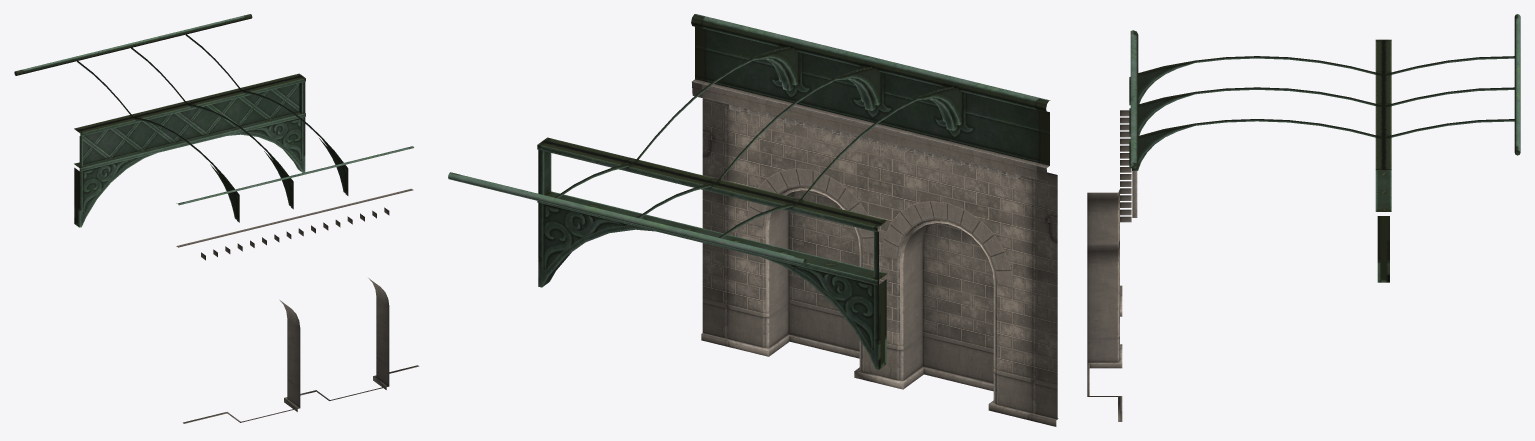
Rendered from t1_b_south_station_back_wall.glb.
3 views of the same model, side by side, from view 1: azimuth 30°, elevation 25°; view 2: azimuth 150°, elevation 25°; view 3: azimuth 270°, elevation 25° (orthographic). The views are drawn at different scales.
Parts seen in each view (by area): view 1: south_station_back_wall; view 2: south_station_back_wall; view 3: south_station_back_wall.
Part boxes in pixels (x1,y1,x2,y2): south_station_back_wall: [14, 14, 419, 423]; south_station_back_wall: [448, 14, 1058, 426]; south_station_back_wall: [1087, 14, 1520, 421].
Size of the model in its own units: 9.18 by 8.7 by 12.34.
Materials: 3 (3 with a texture image).
